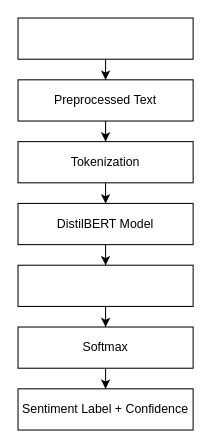
Image size: 211x448. Some labels were removed from this diagram. The shapes that lost their labels are listed below. From the top down, each one's centre as x and y in pixels, then its label:
At [105,38]: "Input Text".
At [105,285]: "Logits".
